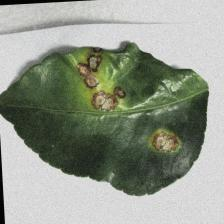canker: (65, 42, 185, 159)
